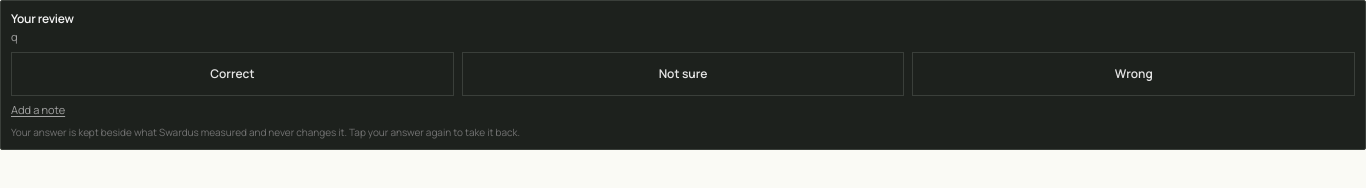
Scenario: the review bar › a failed save says so instead of pretending
The width and height of the screenshot is (1366, 188).
Click the button "Correct": coordinates (232, 74) left=11, top=52, right=454, bottom=96
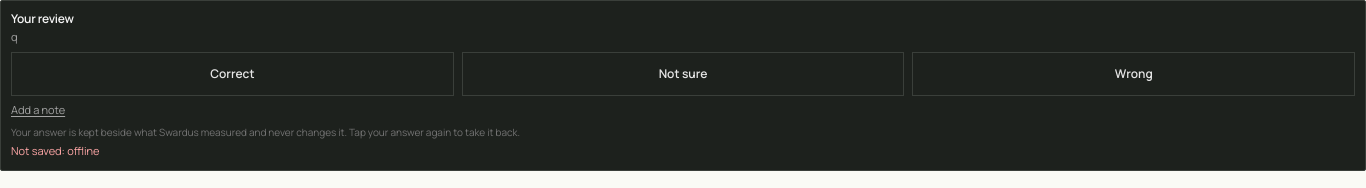
Now the message reads "Not saved: offline", box left=11, top=143, right=99, bottom=158
